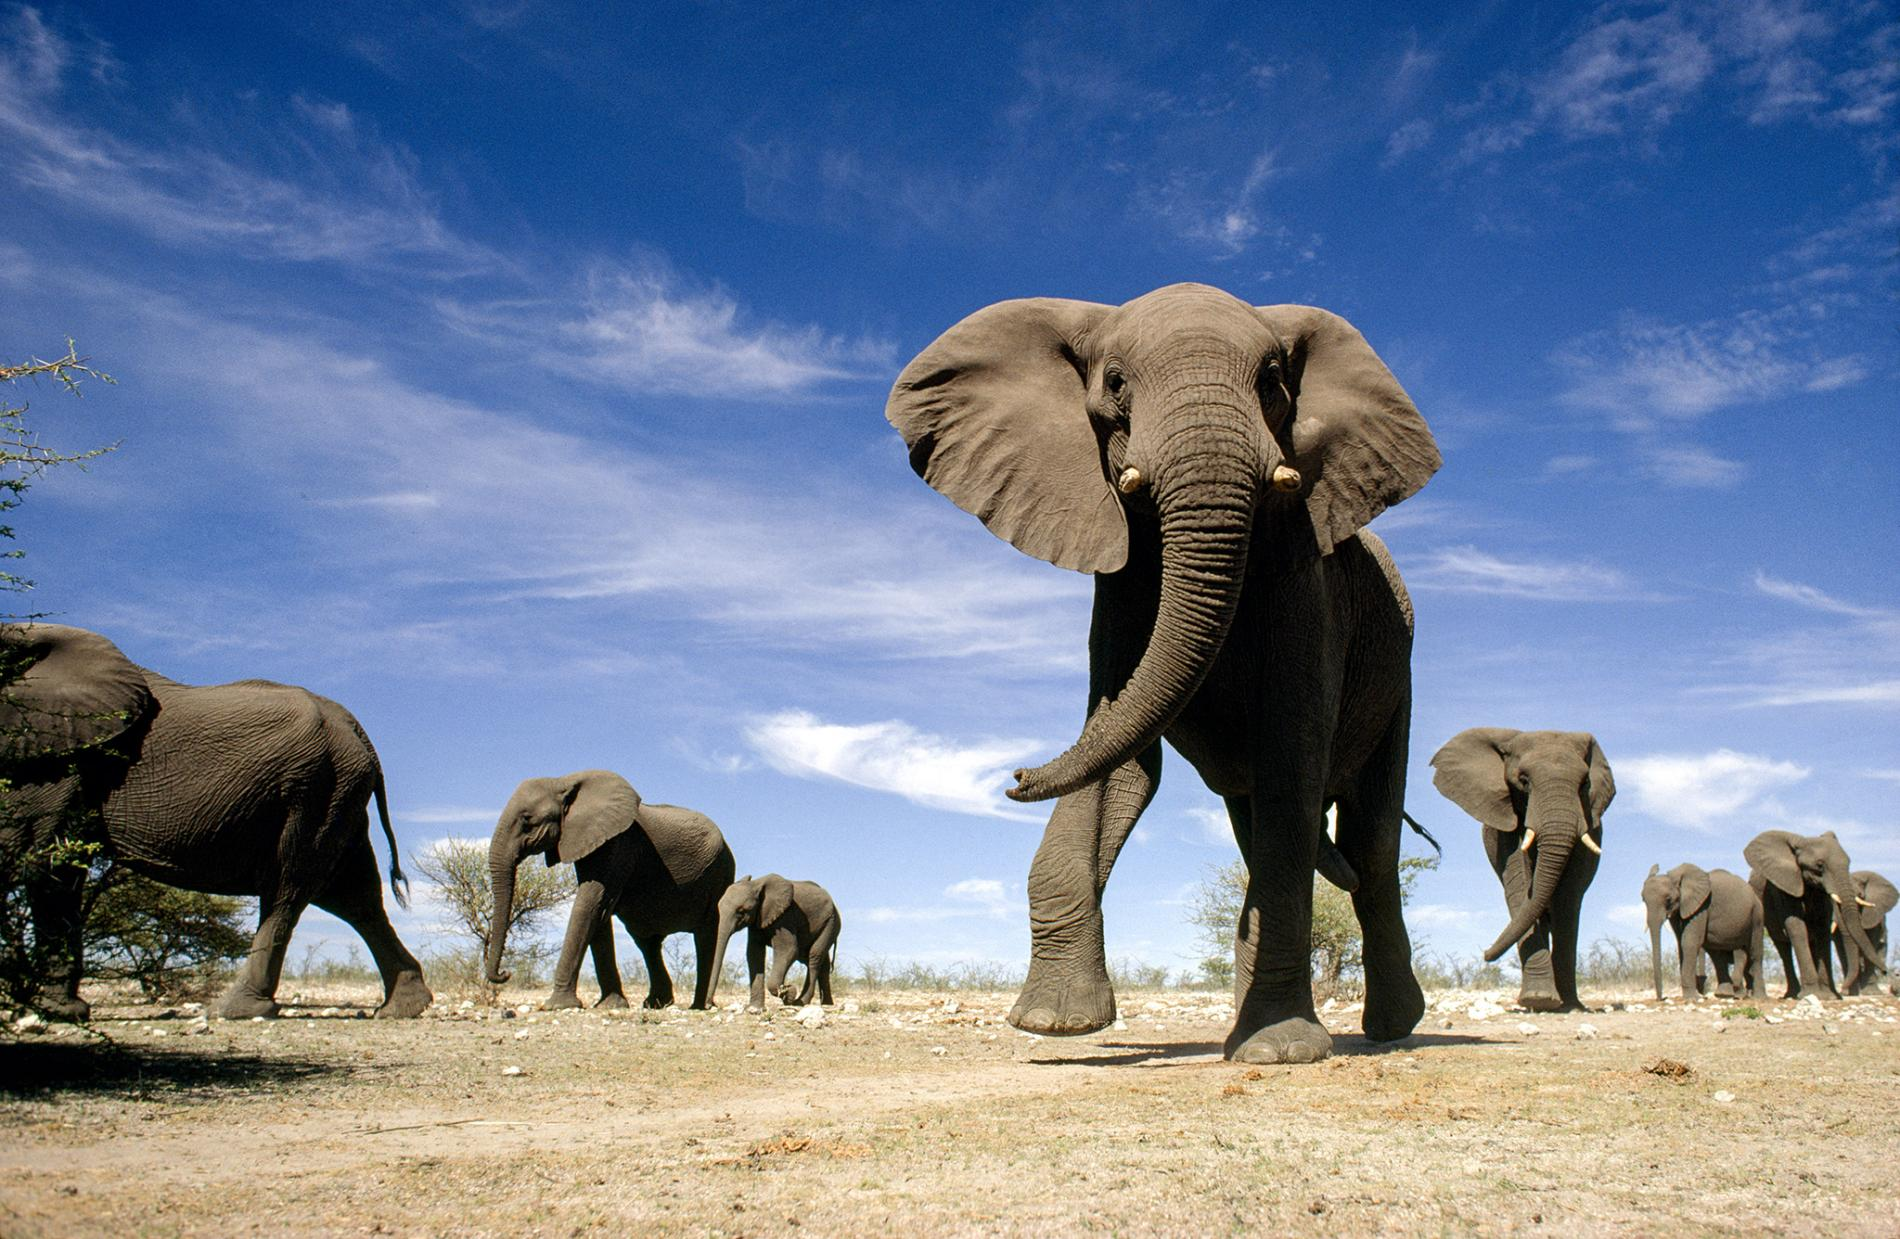elephant: (884, 291, 1447, 1065), (1, 606, 413, 1033), (489, 754, 744, 1022), (1437, 691, 1631, 1006), (1728, 813, 1871, 1031), (1616, 846, 1777, 1013), (690, 861, 850, 1011)
